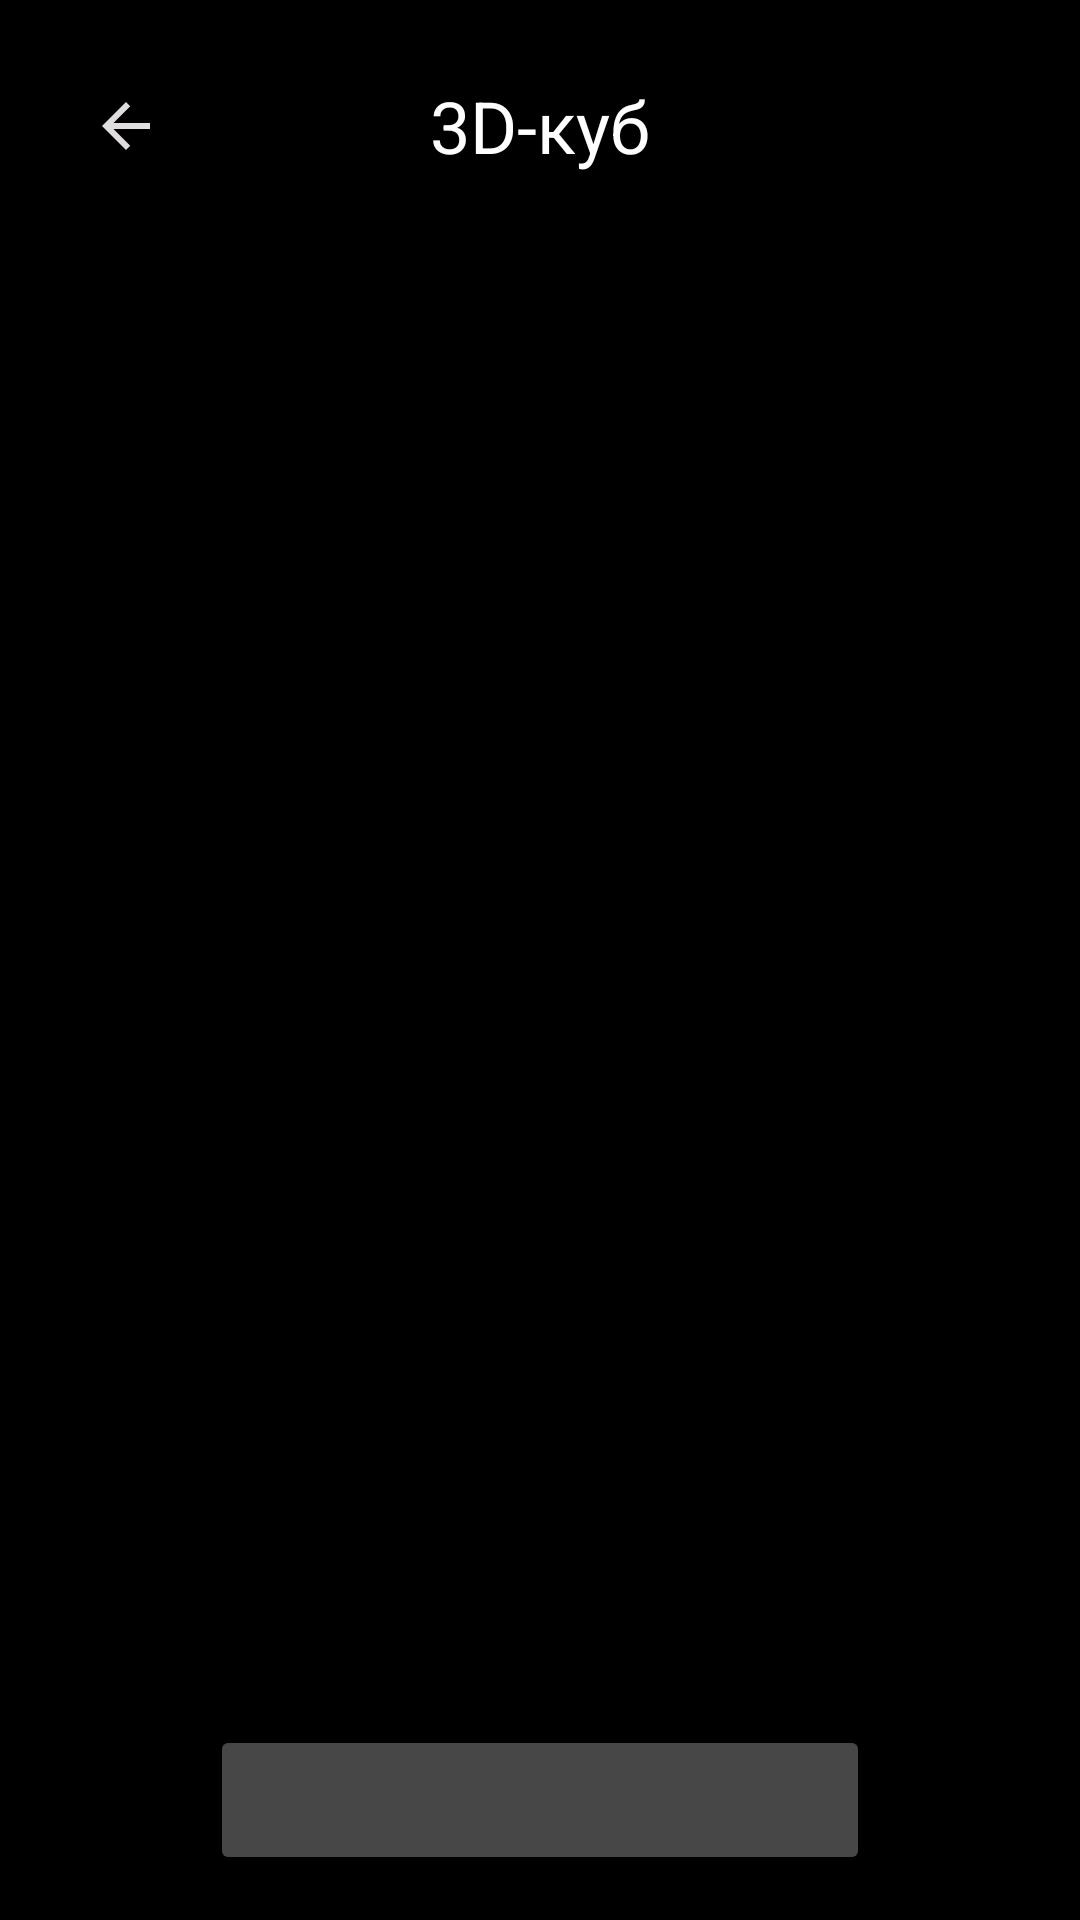

Icon click points for this 1080x1920 phone screenshot, format (x,y):
back: (126,126)
